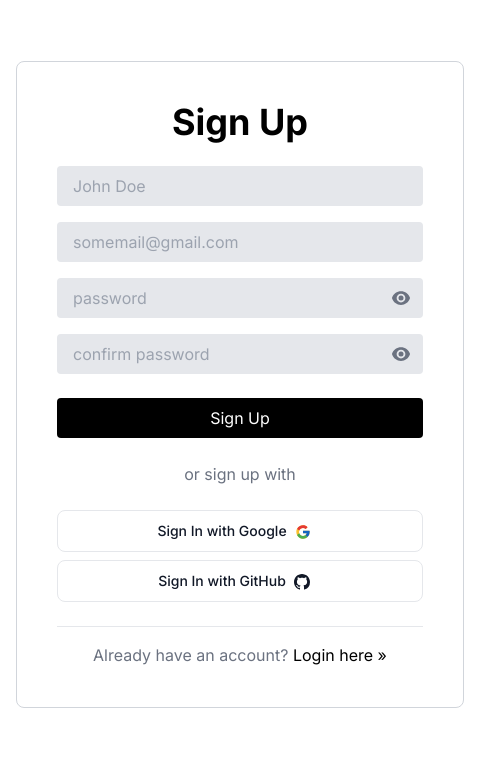
Registration Page › should display validation errors for invalid input
Type "a" into the field named "username".
click(240, 186); type("a")  # box [57,166,423,206]
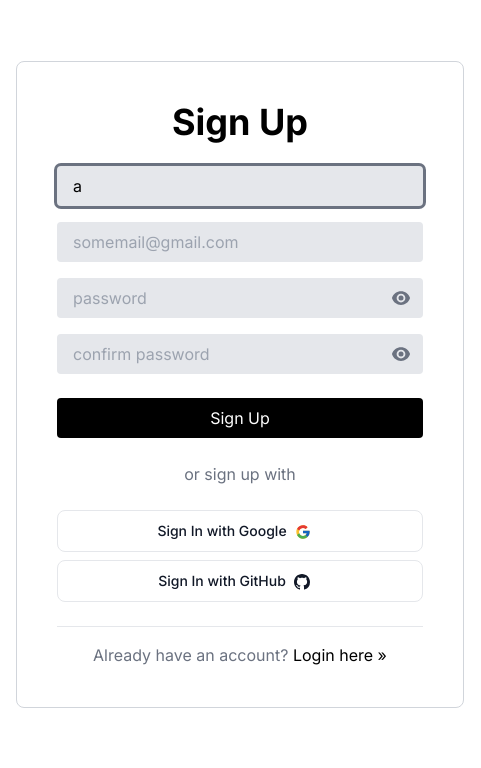
Type "invalid-email" into the field named "email".
click(240, 242); type("invalid-email")  # box [57,222,423,262]
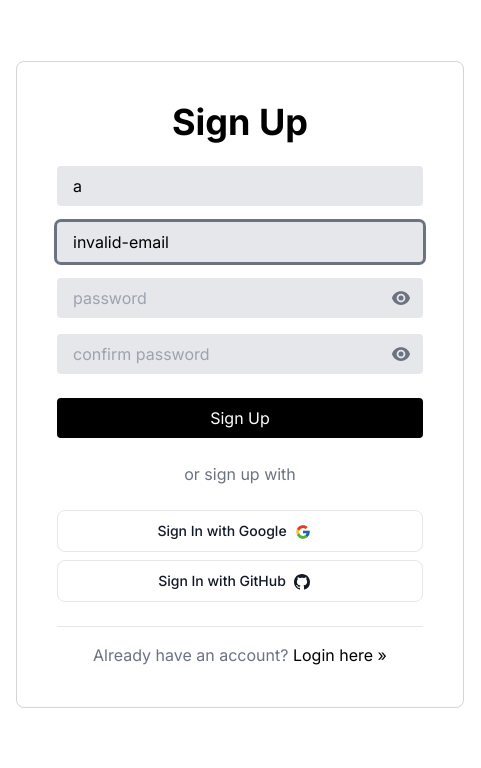
Type "123" into the password field named "password".
click(240, 298); type("123")  # box [57,278,423,318]
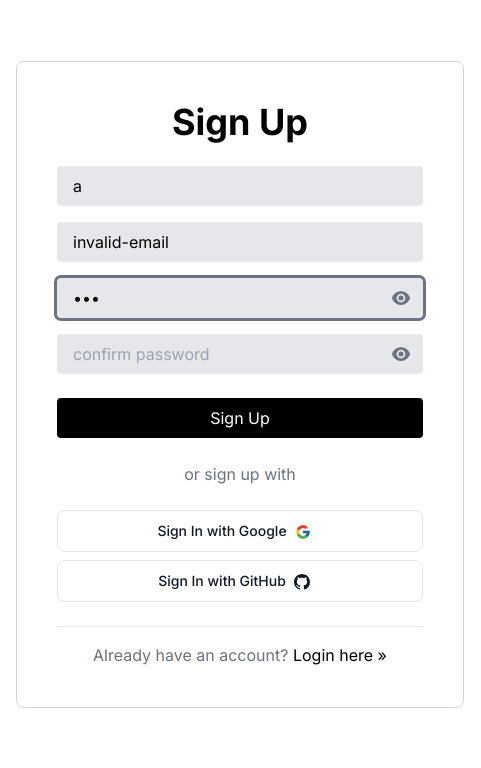
Type "321" into the password field named "confirm-password".
click(240, 354); type("321")  # box [57,334,423,374]
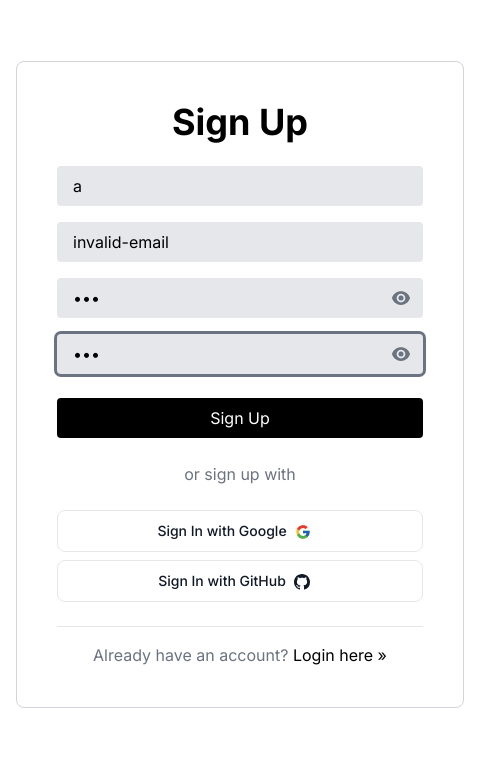
Click the button with test id "Sign Up".
click(240, 418)  # box [57,398,423,438]
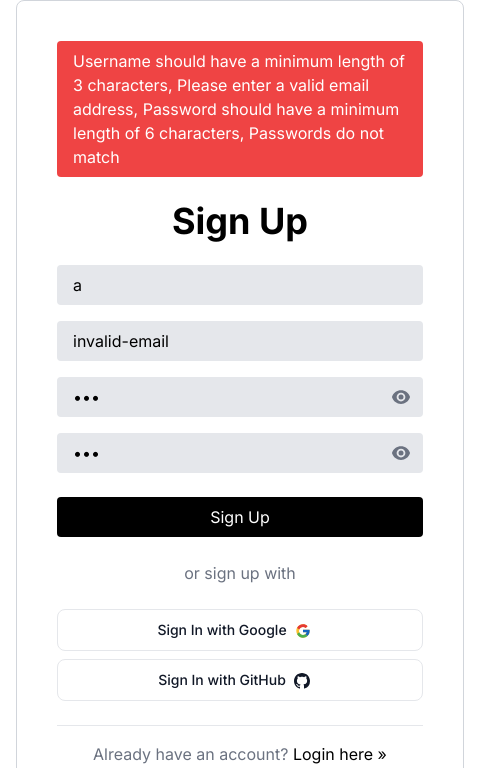
expect the text "Passwords do not match" is shown: met, box [73,51,405,167]
